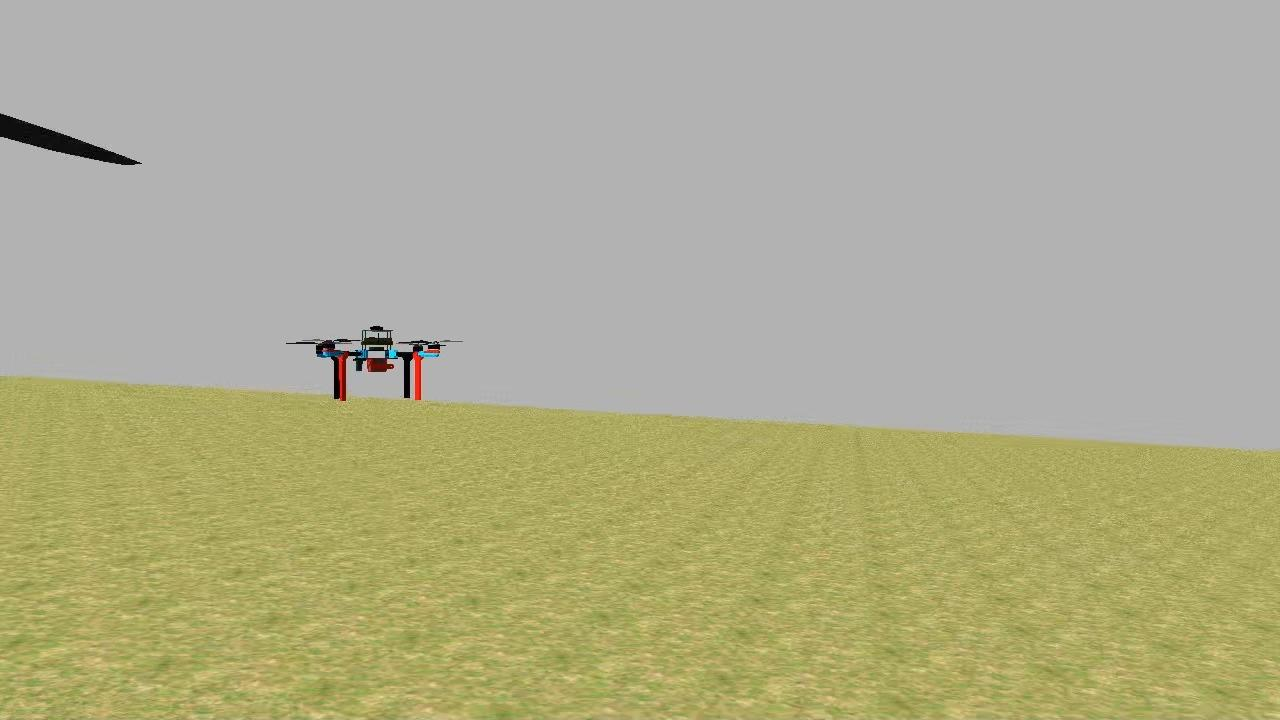UAV: (310, 320, 448, 408)
